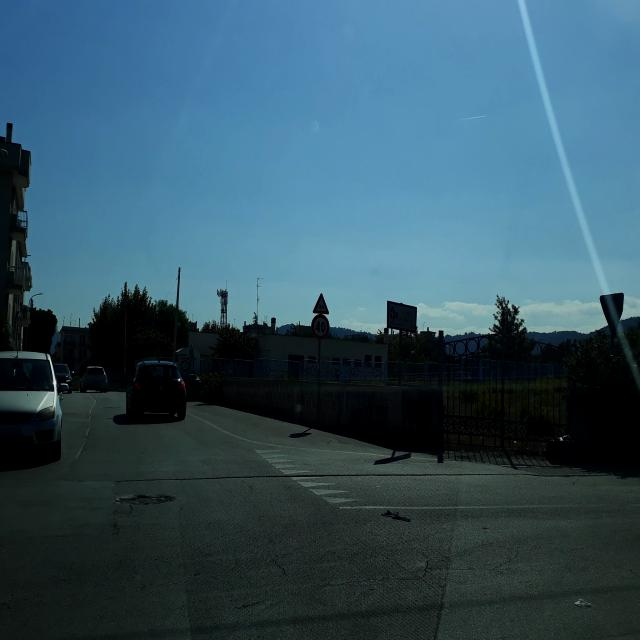car: (0, 350, 63, 464), (126, 358, 186, 422), (80, 365, 108, 393), (53, 363, 73, 393)
